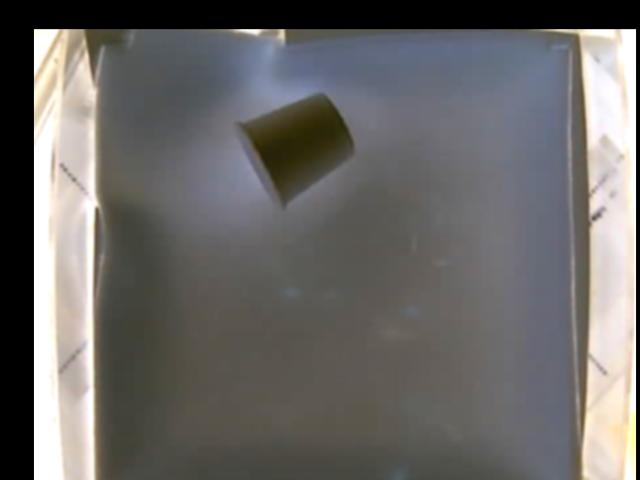Cup: (237, 91, 358, 210)
